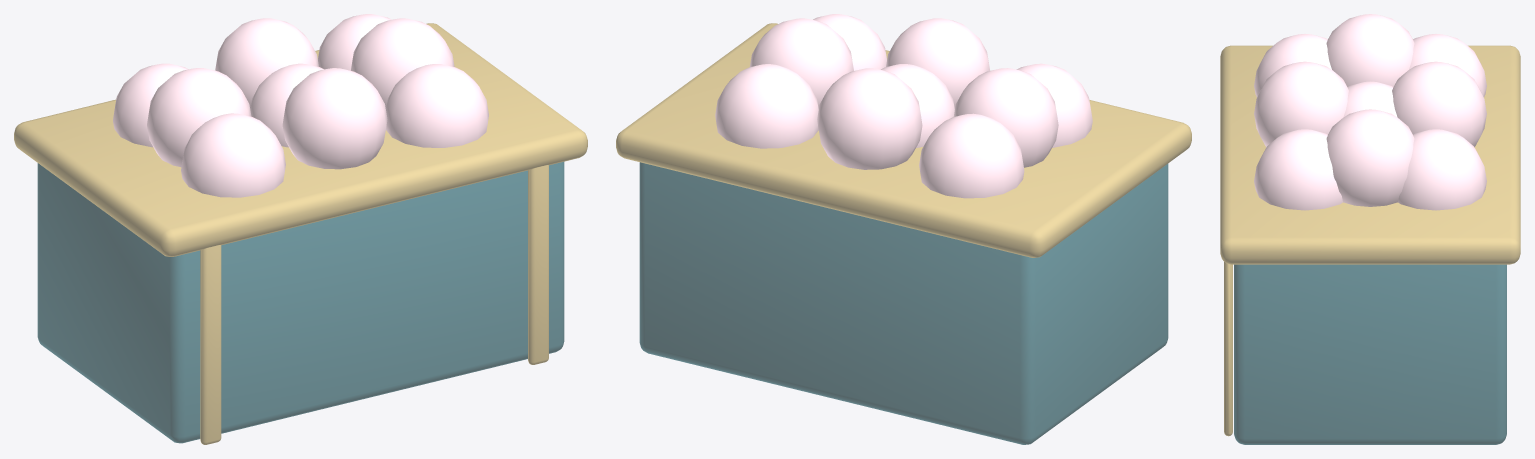
Rendered from atlantis_detail_pearl_cache.glb.
3 renders of one model, left to right at view 1: azimuth 30°, elevation 25°; view 2: azimuth 150°, elevation 25°; view 3: azimuth 270°, elevation 25°, orthographic. The views are drawn at different scales.
Visible parts, largest first — view 1: atlantis_detail_pearl_cache_surface; view 2: atlantis_detail_pearl_cache_surface; view 3: atlantis_detail_pearl_cache_surface.
Part boxes in pixels (x1,y1,x2,y2): atlantis_detail_pearl_cache_surface: (14,14,587,444); atlantis_detail_pearl_cache_surface: (616,14,1191,444); atlantis_detail_pearl_cache_surface: (1220,14,1520,444).
Bounding box in the file's own units: 2.6 × 1.76 × 1.65.
